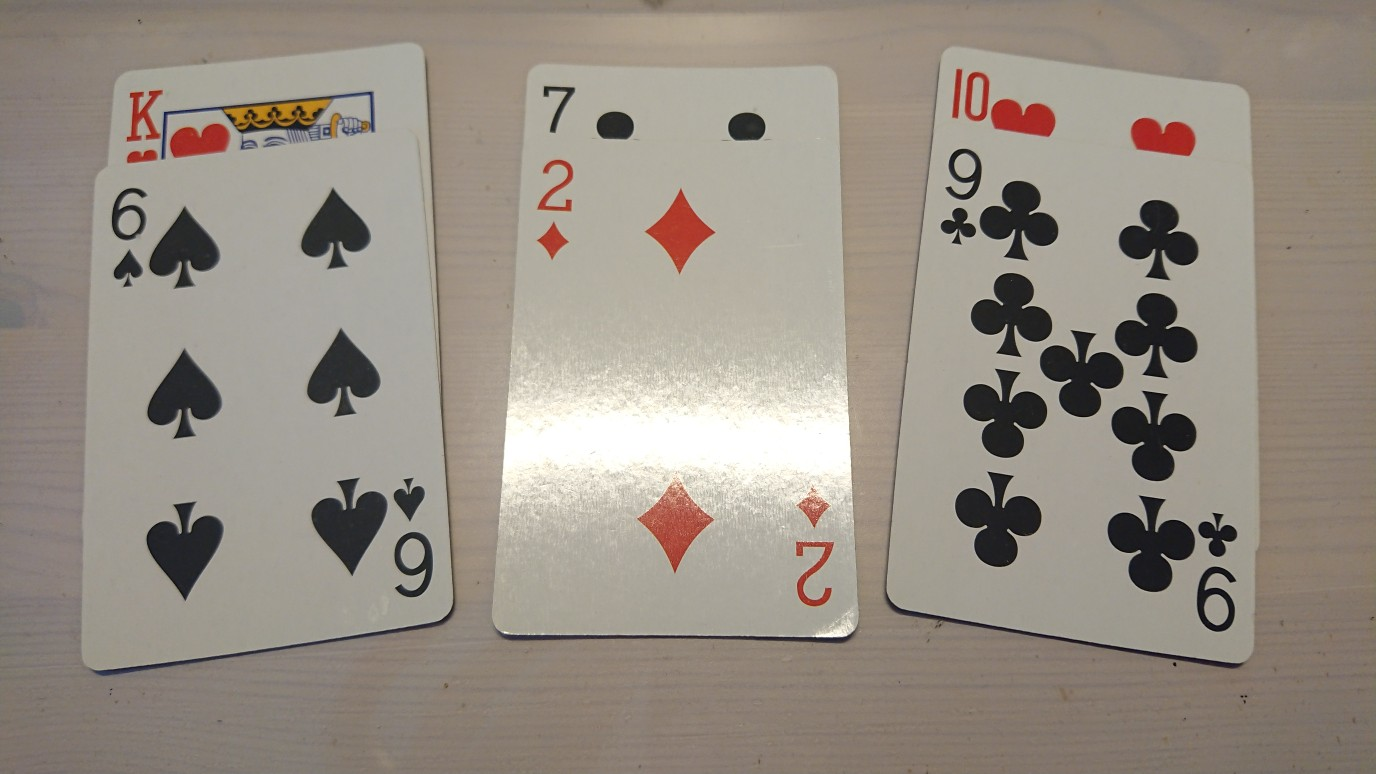2D: (530, 155, 577, 265)
6S: (108, 185, 152, 294)
9C: (936, 146, 983, 253)
KH: (123, 87, 164, 165)
